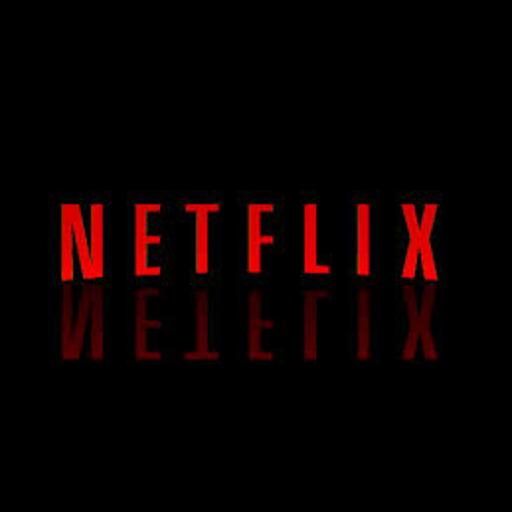Netflix: (0, 64, 512, 447)
